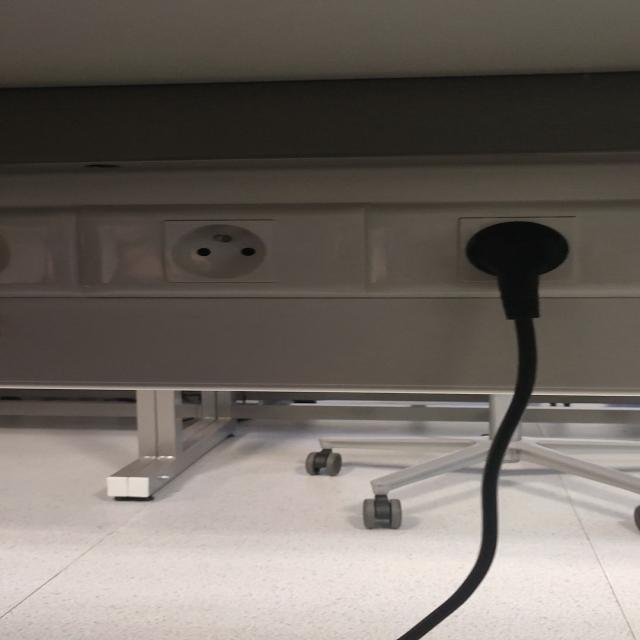house plug: (161, 214, 279, 287)
